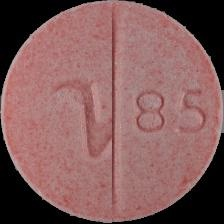0603-5485: (0, 0, 224, 224)
